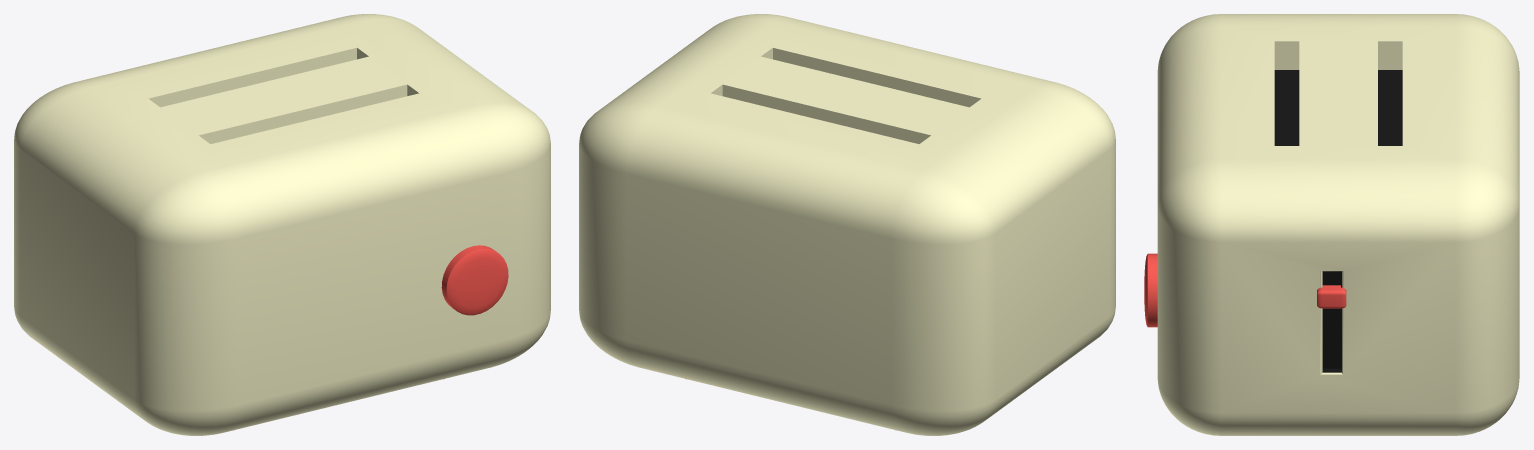
File: toast.fbx
3 views of the same model, side by side, from view 1: azimuth 30°, elevation 25°; view 2: azimuth 150°, elevation 25°; view 3: azimuth 270°, elevation 25° (orthographic). The views are drawn at different scales.
Parts seen in each view (by area): view 1: toaster; view 2: toaster; view 3: toaster.
Boxes of the visible parts, <box> form: toaster: <box>14,14,550,435</box>; toaster: <box>579,14,1115,435</box>; toaster: <box>1144,14,1519,435</box>.
Size of the model in its own units: 66.43 by 40.26 by 49.96.
